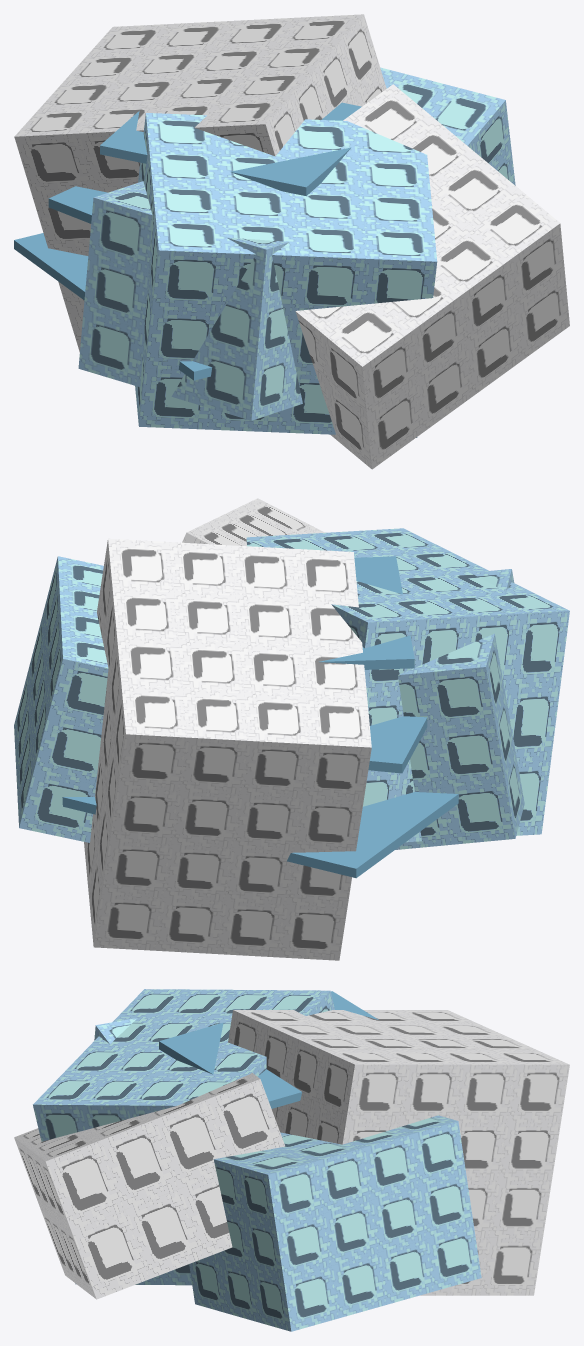
The model's file is IcebergChunk.glb.
3 views of the same model, one above another, from view 1: azimuth 30°, elevation 25°; view 2: azimuth 150°, elevation 25°; view 3: azimuth 270°, elevation 25° (orthographic). The views are drawn at different scales.
Visible parts, largest first — view 1: IcebergChunk; view 2: IcebergChunk; view 3: IcebergChunk.
Part boxes in pixels (x1=…): IcebergChunk: x1=14, y1=14, x2=569, y2=469; IcebergChunk: x1=14, y1=498, x2=569, y2=960; IcebergChunk: x1=14, y1=989, x2=569, y2=1331.
Bounding box in the file's own units: 8.08 × 5.29 × 9.26.
1 material, 1 textured.
